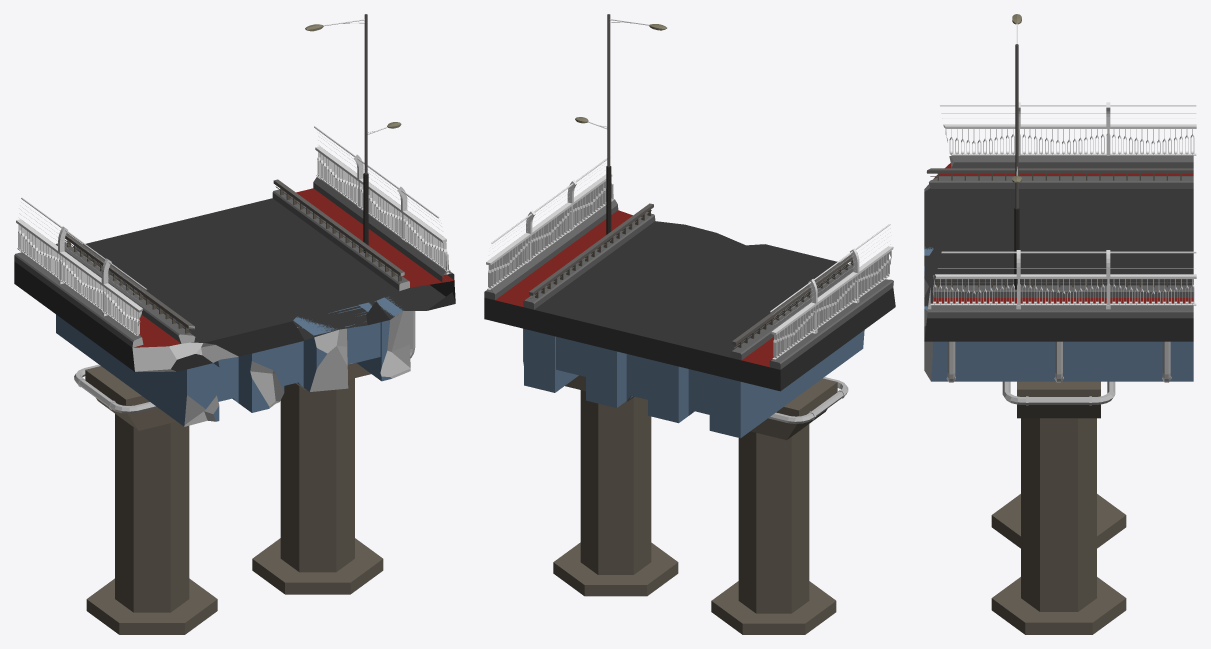
Rendered from bridge_block_break_end.fbx.
The picture shows the model from 3 angles, left to right: view 1: azimuth 30°, elevation 25°; view 2: azimuth 150°, elevation 25°; view 3: azimuth 270°, elevation 25°; orthographic projection. The views are drawn at different scales.
Visible parts, largest first — view 1: BrokenBridgeEnd; view 2: BrokenBridgeEnd; view 3: BrokenBridgeEnd.
Part boxes in pixels (x1,y1,x2,y2): BrokenBridgeEnd: (14,14,455,634); BrokenBridgeEnd: (484,14,895,634); BrokenBridgeEnd: (924,14,1196,634).
Size of the model in its own units: 1368 by 2380 by 1011.
